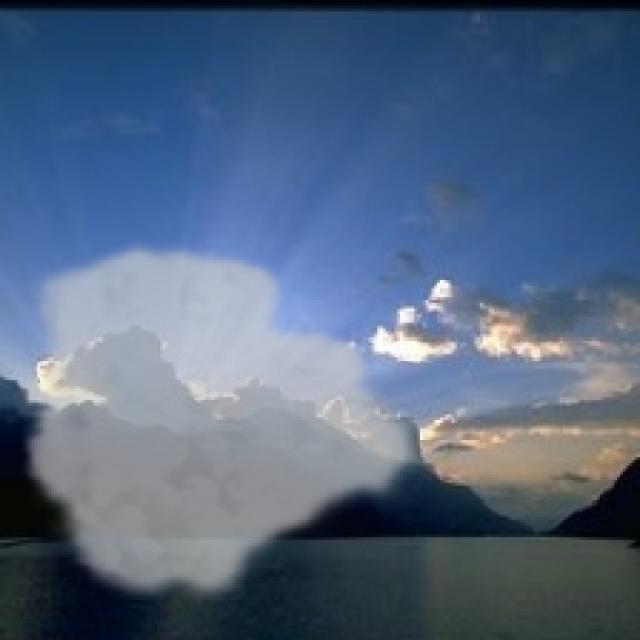smoke: (20, 240, 429, 609)
